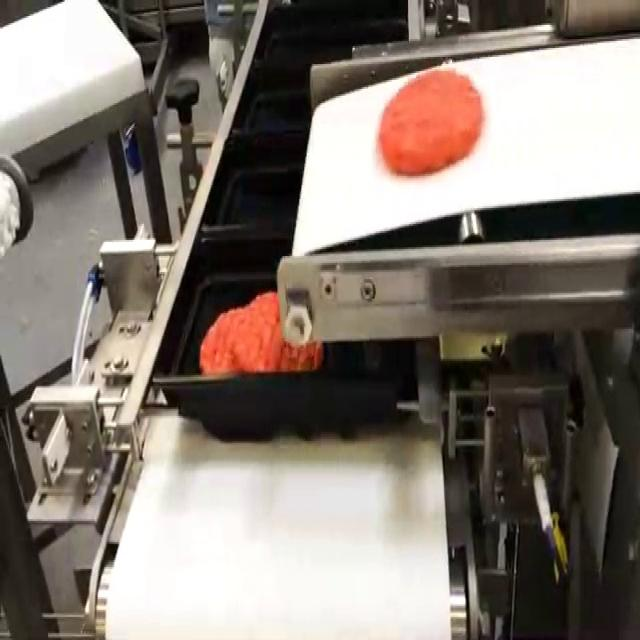hamburguer: (378, 69, 483, 174)
